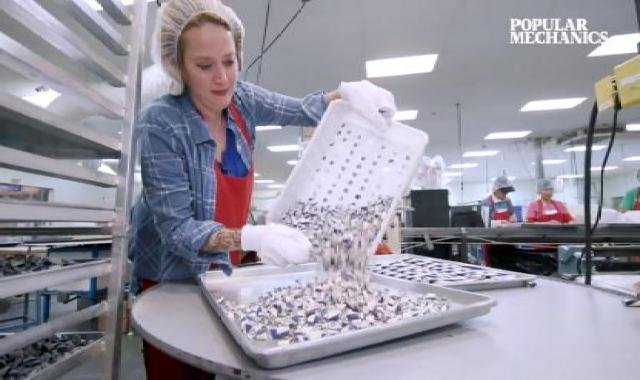hairnet: (148, 3, 250, 88)
